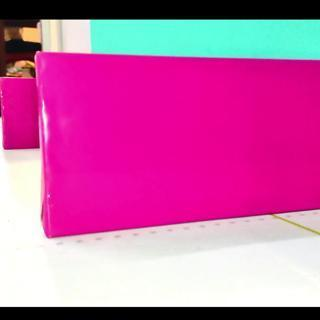xparking: (46, 62, 320, 245), (4, 83, 38, 151)
